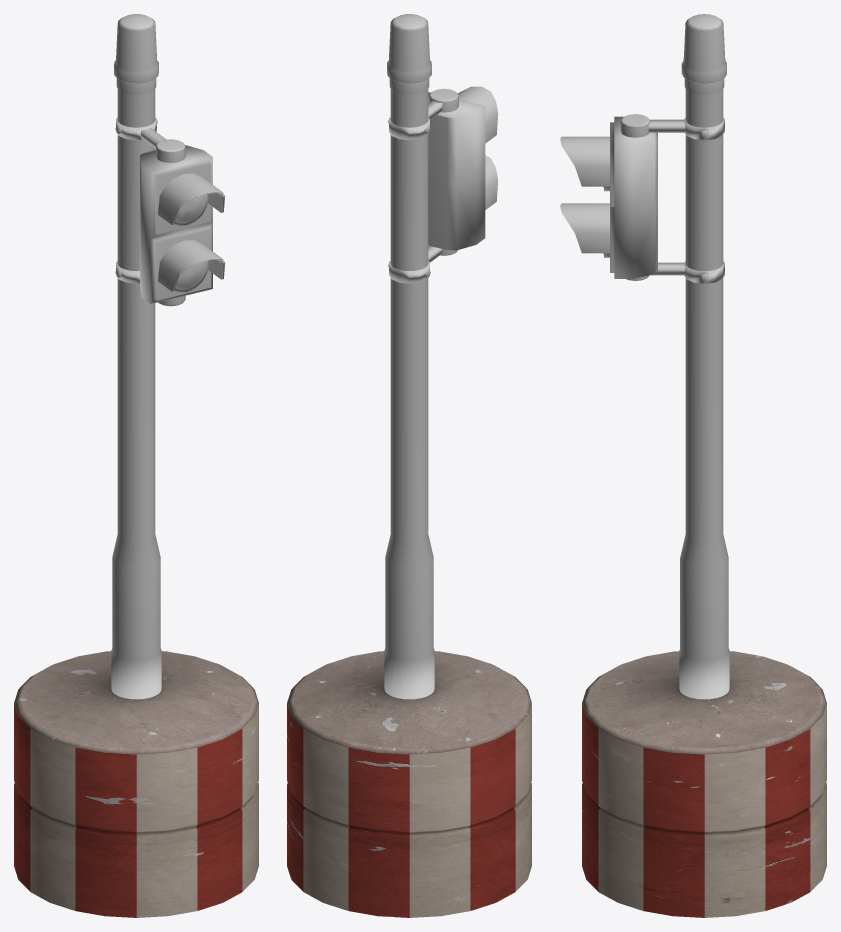
Rendered from betonblock_rund.fbx.
The picture shows the model from 3 angles, left to right: view 1: azimuth 30°, elevation 25°; view 2: azimuth 150°, elevation 25°; view 3: azimuth 270°, elevation 25°; orthographic projection.
Visible parts, largest first — view 1: Mesh, Mesh_ncl1_1, Mesh_ncl1_2, Mesh_ncl1_3; view 2: Mesh_ncl1_1, Mesh, Mesh_ncl1_2; view 3: Mesh_ncl1_1, Mesh, Mesh_ncl1_2, Mesh_ncl1_3.
Boxes of the visible parts, <box> form: Mesh: <box>14,666,258,917</box>; Mesh_ncl1_1: <box>20,14,252,747</box>; Mesh_ncl1_2: <box>115,117,222,306</box>; Mesh_ncl1_3: <box>172,191,225,291</box>; Mesh_ncl1_1: <box>293,14,525,747</box>; Mesh: <box>287,666,531,917</box>; Mesh_ncl1_2: <box>388,86,498,283</box>; Mesh_ncl1_1: <box>588,14,820,747</box>; Mesh: <box>582,666,826,917</box>; Mesh_ncl1_2: <box>560,114,724,283</box>; Mesh_ncl1_3: <box>562,186,609,257</box>.
Bounding box in the file's own units: 88 × 336 × 95.89.
